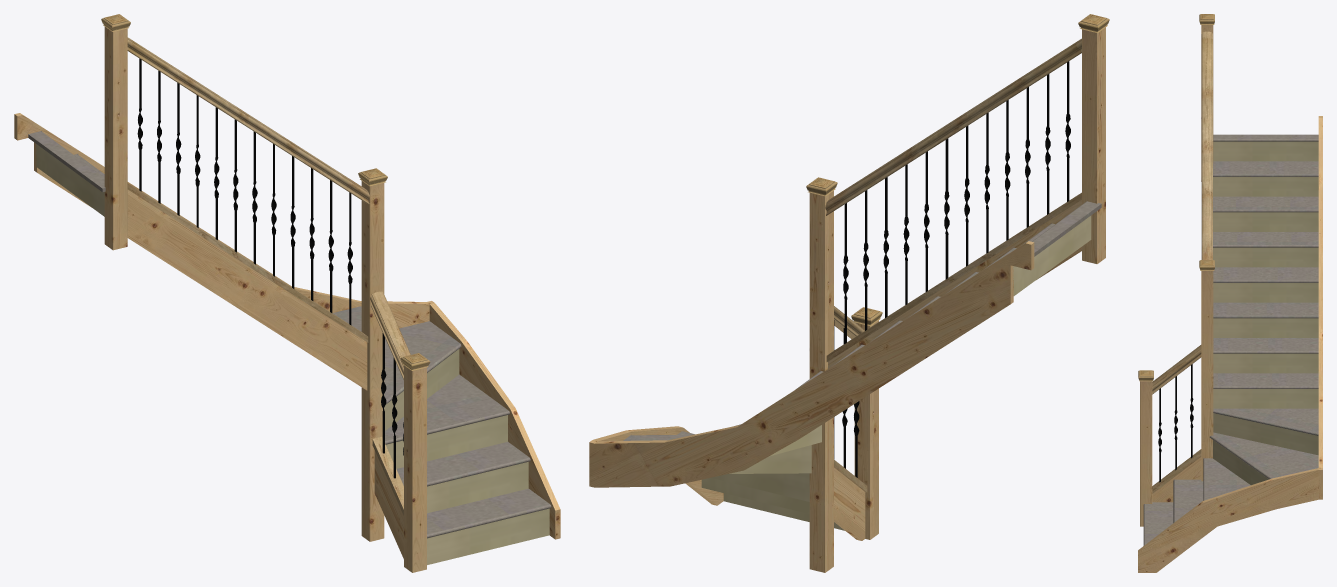
The model's file is Staircase_7.dae.
3 views of the same model, side by side, from view 1: azimuth 30°, elevation 25°; view 2: azimuth 150°, elevation 25°; view 3: azimuth 270°, elevation 25° (orthographic). The views are drawn at different scales.
Parts seen in each view (by area): view 1: StairCon (×21); view 2: StairCon (×15); view 3: StairCon (×32).
Part boxes in pixels (left/top/right/bottom): StairCon (×21): left=14, top=27, right=560, bottom=572; StairCon (×15): left=589, top=27, right=1105, bottom=572; StairCon (×32): left=1138, top=25, right=1322, bottom=572.
Bounding box in the file's own units: 2.56 × 1.37 × 3.41.
Materials: 8 (7 with a texture image).
